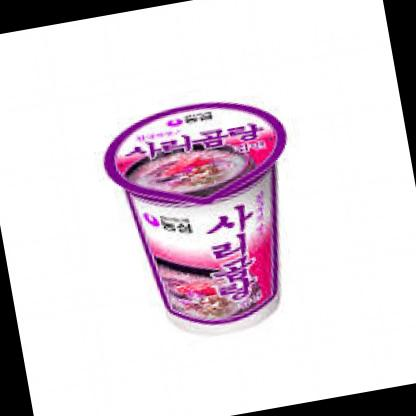Ramen: (86, 85, 322, 361)
